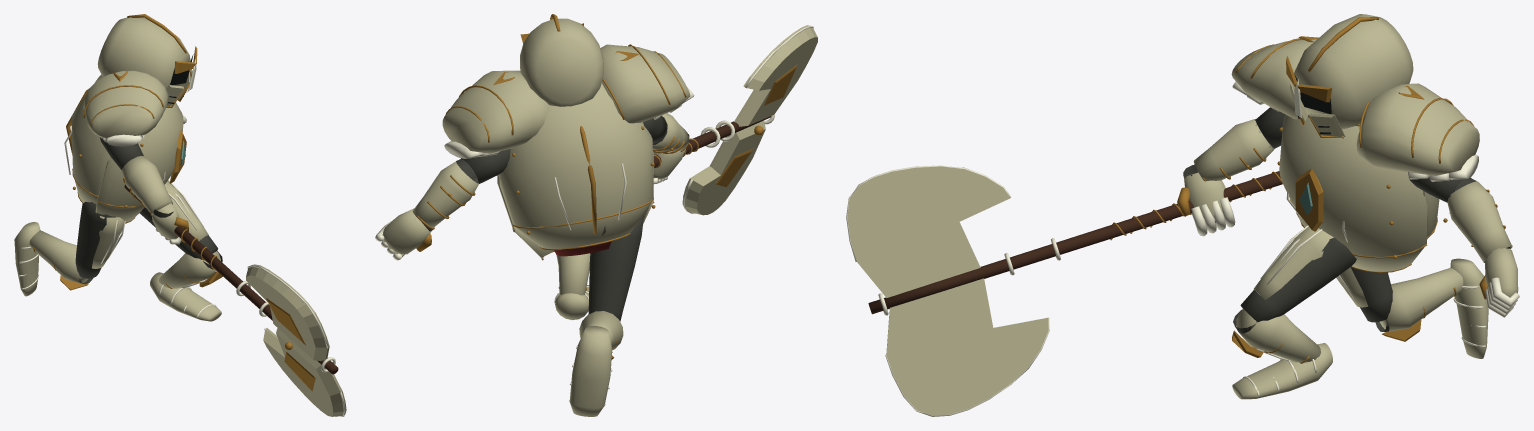
Rendered from ironknuckles.glb.
3 renders of one model, left to right at view 1: azimuth 30°, elevation 25°; view 2: azimuth 150°, elevation 25°; view 3: azimuth 270°, elevation 25°, orthographic. The views are drawn at different scales.
Visible parts, largest first — view 1: IronKnuckle.0.24.broad domed pauldron, IronKnuckle.0.12.forged helmet shell, IronKnuckle.0.26.detachable breastplate, IronKnuckle.0.17.crescent axe blade, IronKnuckle.0.17.crescent axe blade.001, IronKnuckle.0.27.detachable backplate, IronKnuckle.0.15.layered closed vambrace, IronKnuckle.0.03.mail cuisse underlayer, IronKnuckle.0.04.closed articulated greave, IronKnuckle.0.08.segmented broad sabaton, IronKnuckle.0.17.long octagonal axe haft, IronKnuckle.0.05.segmented broad sabaton (+10 smaller); view 2: IronKnuckle.0.27.detachable backplate, IronKnuckle.0.22.broad domed pauldron, IronKnuckle.0.12.forged helmet shell, IronKnuckle.0.24.broad domed pauldron, IronKnuckle.0.17.crescent axe blade, IronKnuckle.0.03.mail cuisse underlayer, IronKnuckle.0.05.segmented broad sabaton, IronKnuckle.0.17.crescent axe blade.001, IronKnuckle.0.20.layered closed vambrace, IronKnuckle.0.21.forged gauntlet palm, IronKnuckle.0.07.closed articulated greave, IronKnuckle.0.19.padded upper arm (+11 smaller); view 3: IronKnuckle.0.17.crescent axe blade.001, IronKnuckle.0.17.crescent axe blade, IronKnuckle.0.26.detachable breastplate, IronKnuckle.0.22.broad domed pauldron, IronKnuckle.0.12.forged helmet shell, IronKnuckle.0.17.long octagonal axe haft, IronKnuckle.0.24.broad domed pauldron, IronKnuckle.0.06.mail cuisse underlayer, IronKnuckle.0.20.layered closed vambrace, IronKnuckle.0.04.closed articulated greave, IronKnuckle.0.15.layered closed vambrace, IronKnuckle.0.08.segmented broad sabaton (+9 smaller).
Boxes of the visible parts, left/top/right/bottom form: IronKnuckle.0.24.broad domed pauldron: left=83, top=70, right=168, bottom=137; IronKnuckle.0.12.forged helmet shell: left=97, top=17, right=189, bottom=88; IronKnuckle.0.26.detachable breastplate: left=95, top=102, right=183, bottom=222; IronKnuckle.0.17.crescent axe blade: left=246, top=264, right=329, bottom=361; IronKnuckle.0.17.crescent axe blade.001: left=263, top=328, right=346, bottom=416; IronKnuckle.0.27.detachable backplate: left=71, top=74, right=110, bottom=203; IronKnuckle.0.15.layered closed vambrace: left=122, top=156, right=172, bottom=215; IronKnuckle.0.03.mail cuisse underlayer: left=75, top=201, right=115, bottom=278; IronKnuckle.0.04.closed articulated greave: left=29, top=230, right=88, bottom=283; IronKnuckle.0.08.segmented broad sabaton: left=150, top=272, right=221, bottom=321; IronKnuckle.0.17.long octagonal axe haft: left=124, top=184, right=338, bottom=374; IronKnuckle.0.05.segmented broad sabaton: left=14, top=222, right=40, bottom=296; IronKnuckle.0.27.detachable backplate: left=498, top=83, right=653, bottom=248; IronKnuckle.0.22.broad domed pauldron: left=442, top=70, right=549, bottom=153; IronKnuckle.0.12.forged helmet shell: left=520, top=18, right=603, bottom=106; IronKnuckle.0.24.broad domed pauldron: left=600, top=44, right=690, bottom=123; IronKnuckle.0.17.crescent axe blade: left=734, top=25, right=817, bottom=126; IronKnuckle.0.03.mail cuisse underlayer: left=588, top=215, right=643, bottom=321; IronKnuckle.0.05.segmented broad sabaton: left=570, top=326, right=612, bottom=416; IronKnuckle.0.17.crescent axe blade.001: left=682, top=120, right=765, bottom=215; IronKnuckle.0.20.layered closed vambrace: left=412, top=161, right=478, bottom=227; IronKnuckle.0.21.forged gauntlet palm: left=382, top=208, right=431, bottom=254; IronKnuckle.0.07.closed articulated greave: left=556, top=253, right=590, bottom=295; IronKnuckle.0.19.padded upper arm: left=461, top=149, right=510, bottom=183; IronKnuckle.0.17.crescent axe blade.001: left=886, top=278, right=1048, bottom=415; IronKnuckle.0.17.crescent axe blade: left=847, top=166, right=1009, bottom=297; IronKnuckle.0.26.detachable breastplate: left=1279, top=115, right=1427, bottom=271; IronKnuckle.0.22.broad domed pauldron: left=1356, top=83, right=1479, bottom=175; IronKnuckle.0.12.forged helmet shell: left=1294, top=14, right=1413, bottom=129; IronKnuckle.0.17.long octagonal axe haft: left=868, top=171, right=1282, bottom=314; IronKnuckle.0.24.broad domed pauldron: left=1231, top=39, right=1316, bottom=119; IronKnuckle.0.06.mail cuisse underlayer: left=1240, top=237, right=1356, bottom=322; IronKnuckle.0.20.layered closed vambrace: left=1447, top=181, right=1512, bottom=262; IronKnuckle.0.04.closed articulated greave: left=1379, top=268, right=1463, bottom=331; IronKnuckle.0.15.layered closed vambrace: left=1193, top=119, right=1274, bottom=180; IronKnuckle.0.08.segmented broad sabaton: left=1232, top=343, right=1332, bottom=399.
Size of the model in its own units: 40.07 by 60.93 by 96.71.
